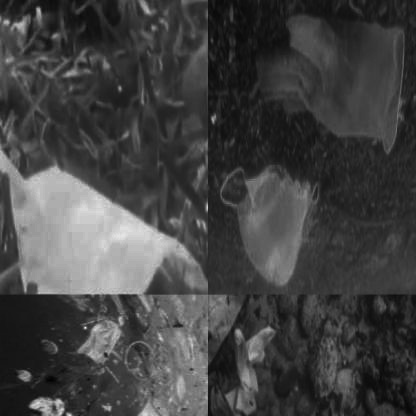Mask: (0, 147, 206, 293), (219, 163, 321, 292), (68, 318, 126, 364)
glove: (256, 13, 406, 154), (208, 314, 284, 415), (208, 295, 265, 382)
